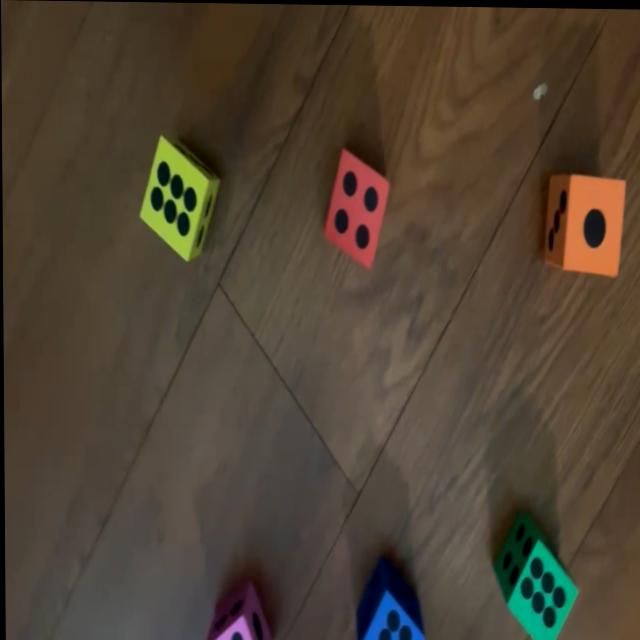blue_block: (352, 554, 423, 640)
red_block: (322, 148, 389, 268)
